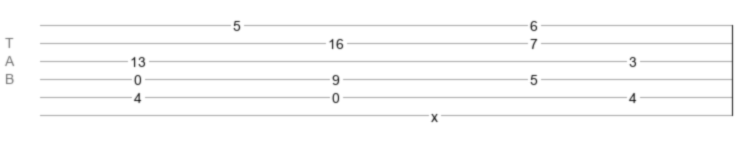0: (134, 72, 142, 82), (332, 90, 340, 100)
13: (130, 54, 146, 64)
16: (328, 36, 344, 46)
3: (629, 54, 637, 64)
4: (134, 90, 142, 100), (629, 90, 637, 100)
5: (233, 18, 241, 28), (530, 72, 538, 82)
6: (530, 18, 538, 28)
7: (530, 36, 538, 46)
9: (332, 72, 340, 82)
x: (431, 109, 438, 117)
